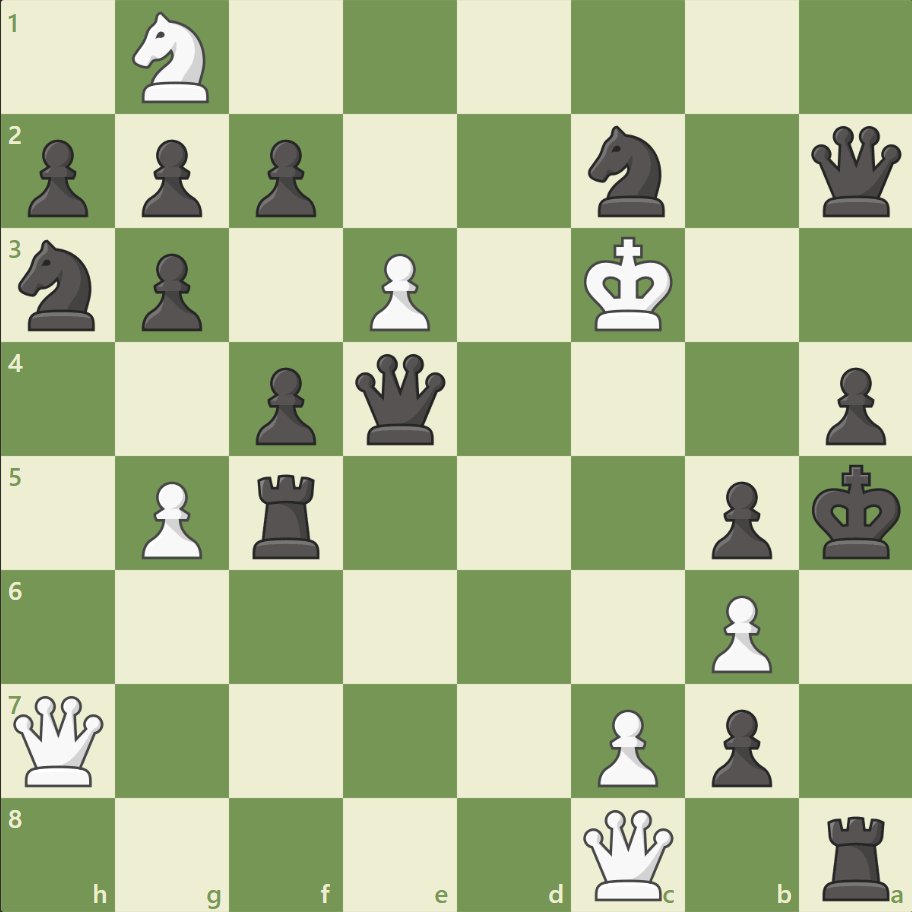K: (579, 231, 679, 339)
N: (124, 7, 222, 110)
P: (701, 586, 776, 677), (133, 473, 208, 564), (588, 700, 662, 791), (361, 246, 435, 337)
Q: (578, 804, 677, 903), (10, 690, 109, 789)
k: (806, 458, 906, 566)
n: (11, 234, 108, 337), (579, 121, 676, 223)
p: (701, 700, 776, 791), (701, 473, 776, 564), (247, 359, 322, 450), (133, 246, 208, 337), (247, 132, 322, 223), (133, 132, 208, 223), (20, 132, 95, 223), (815, 359, 889, 450)
q: (351, 349, 450, 449), (805, 122, 904, 222)
r: (814, 806, 897, 904), (246, 466, 329, 563)
